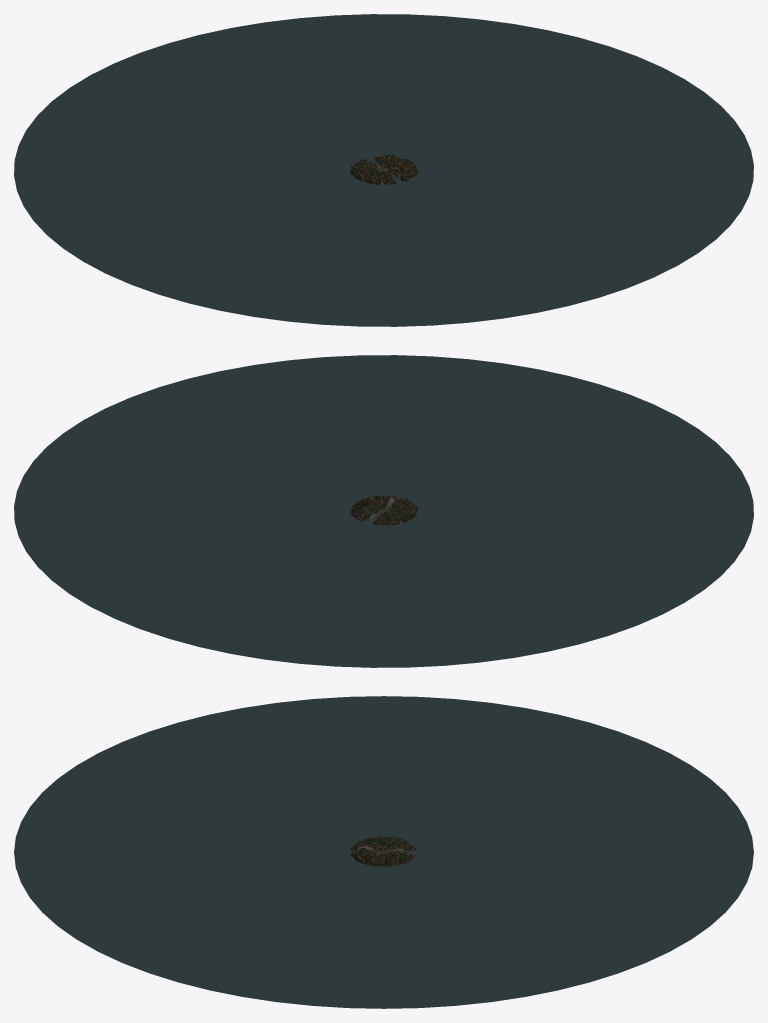
Rendered from backdrop_near_rect_wild_autumn.glb.
3 views of the same model, one above another, from view 1: azimuth 30°, elevation 25°; view 2: azimuth 150°, elevation 25°; view 3: azimuth 270°, elevation 25° (orthographic).
Visible parts, largest first — view 1: water_N, water_S, water_W, water_E; view 2: water_N, water_S, water_W, water_E; view 3: water_E, water_N, water_W, water_S.
Boxes of the visible parts, x1=… form: water_N: x1=26, y1=14, x2=479, y2=170; water_S: x1=288, y1=170, x2=741, y2=326; water_W: x1=14, y1=130, x2=383, y2=321; water_E: x1=384, y1=19, x2=753, y2=210; water_N: x1=26, y1=511, x2=479, y2=667; water_S: x1=288, y1=355, x2=741, y2=511; water_W: x1=384, y1=471, x2=753, y2=662; water_E: x1=14, y1=360, x2=383, y2=551; water_E: x1=123, y1=853, x2=644, y2=1008; water_N: x1=384, y1=742, x2=753, y2=962; water_W: x1=123, y1=696, x2=644, y2=852; water_S: x1=14, y1=742, x2=383, y2=962.
Size of the model in its own units: 6000 by 175 by 6000.
Materials: 5 (3 with a texture image).
